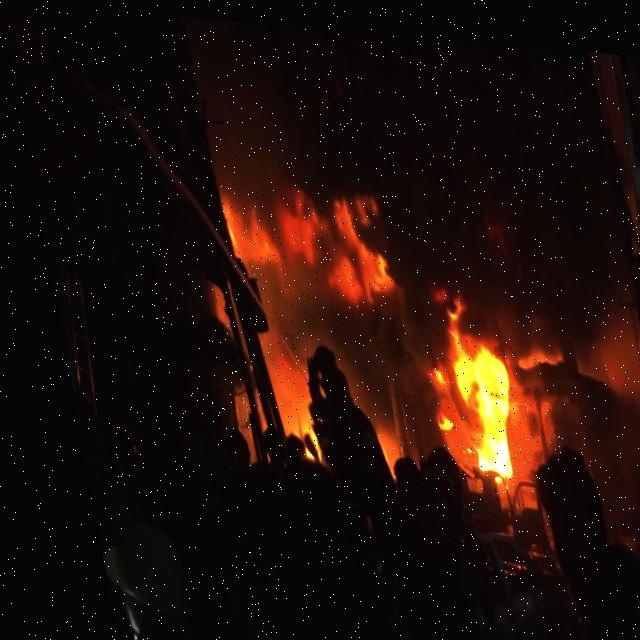Fire: (206, 145, 532, 498)
